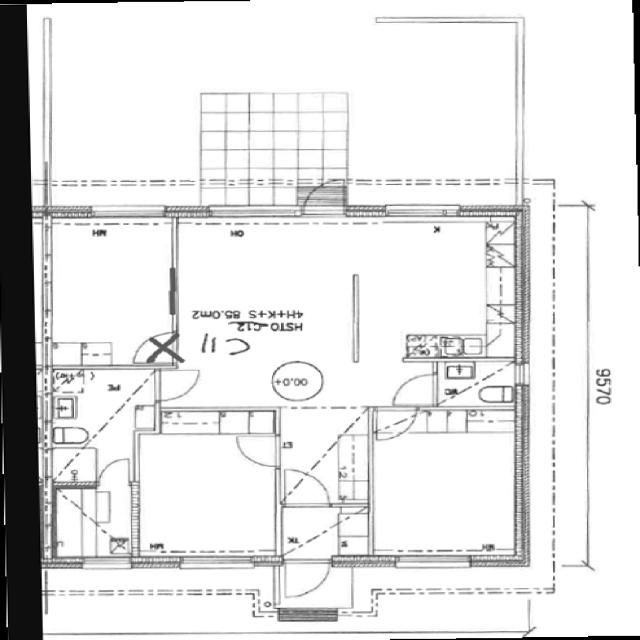door: (278, 555, 334, 601), (297, 178, 347, 222), (279, 468, 330, 510), (151, 366, 203, 405), (388, 372, 441, 408), (231, 432, 283, 468), (371, 406, 418, 443), (95, 454, 135, 488)
window: (204, 203, 303, 225), (174, 551, 258, 573), (389, 552, 476, 572), (380, 202, 464, 222), (86, 204, 168, 223), (278, 606, 338, 624), (77, 554, 134, 572), (511, 361, 531, 388)
zone: (172, 222, 358, 407), (366, 411, 522, 563), (350, 222, 518, 358), (130, 423, 282, 561), (42, 218, 176, 364), (45, 366, 157, 446), (48, 488, 131, 563), (434, 360, 520, 410)
